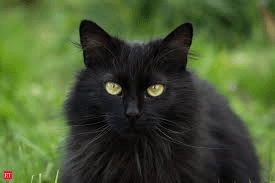cat: (48, 17, 260, 182)
